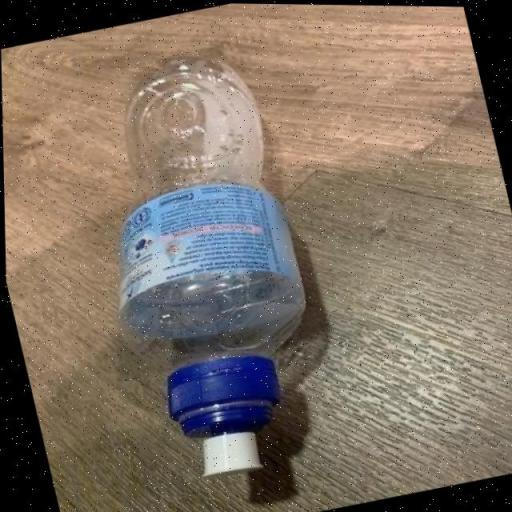plastic: (54, 39, 347, 495)
